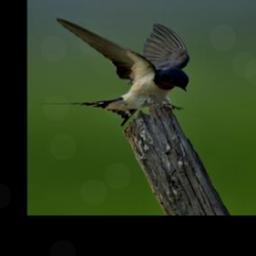Swallow: (39, 14, 189, 125)
